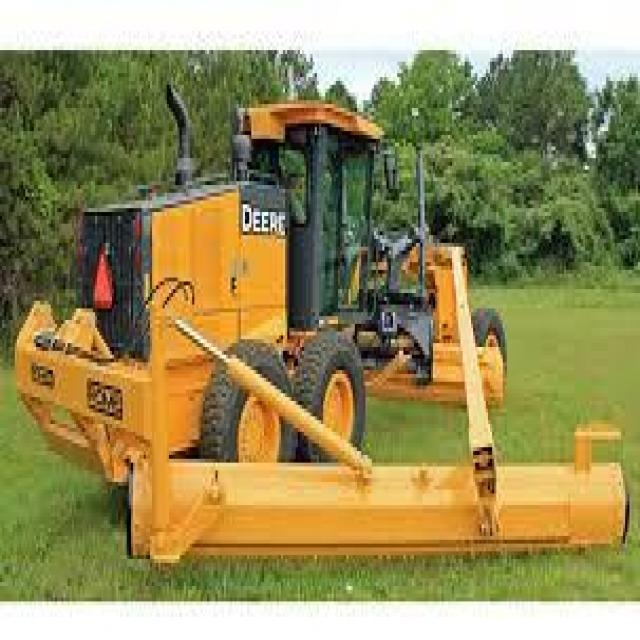Grader: (10, 65, 628, 590)
